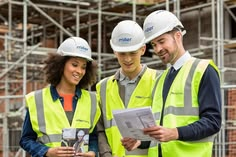hardhat: (109, 22, 147, 53), (144, 12, 186, 38), (57, 36, 93, 61)
person: (143, 11, 218, 156), (97, 18, 169, 156), (21, 35, 102, 154)
safety_vest: (24, 80, 94, 146), (157, 68, 211, 153), (104, 74, 161, 154)
